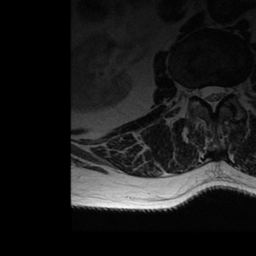CCS_normal: (205, 79, 217, 116)
LFS_stenosis: (227, 80, 234, 100)
LLS_normal: (218, 79, 225, 103)
RFS_normal: (188, 80, 197, 103)
RLS_normal: (197, 80, 206, 103)
